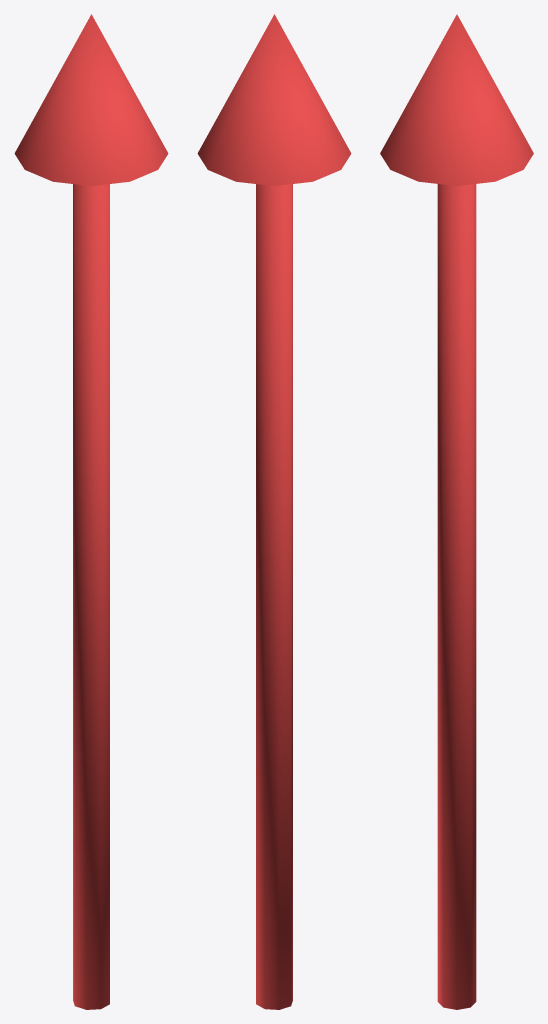
Rendered from drag_red_merged.glb.
3 renders of one model, left to right at view 1: azimuth 30°, elevation 25°; view 2: azimuth 150°, elevation 25°; view 3: azimuth 270°, elevation 25°, orthographic.
Visible parts, largest first — view 1: zDragCone; view 2: zDragCone; view 3: zDragCone.
Boxes of the visible parts, box(x1,y1,x2,y2) form: zDragCone: box(14, 14, 168, 1009); zDragCone: box(197, 14, 351, 1009); zDragCone: box(380, 14, 533, 1009).
Size of the model in its own units: 0.2 by 1.42 by 0.2.
